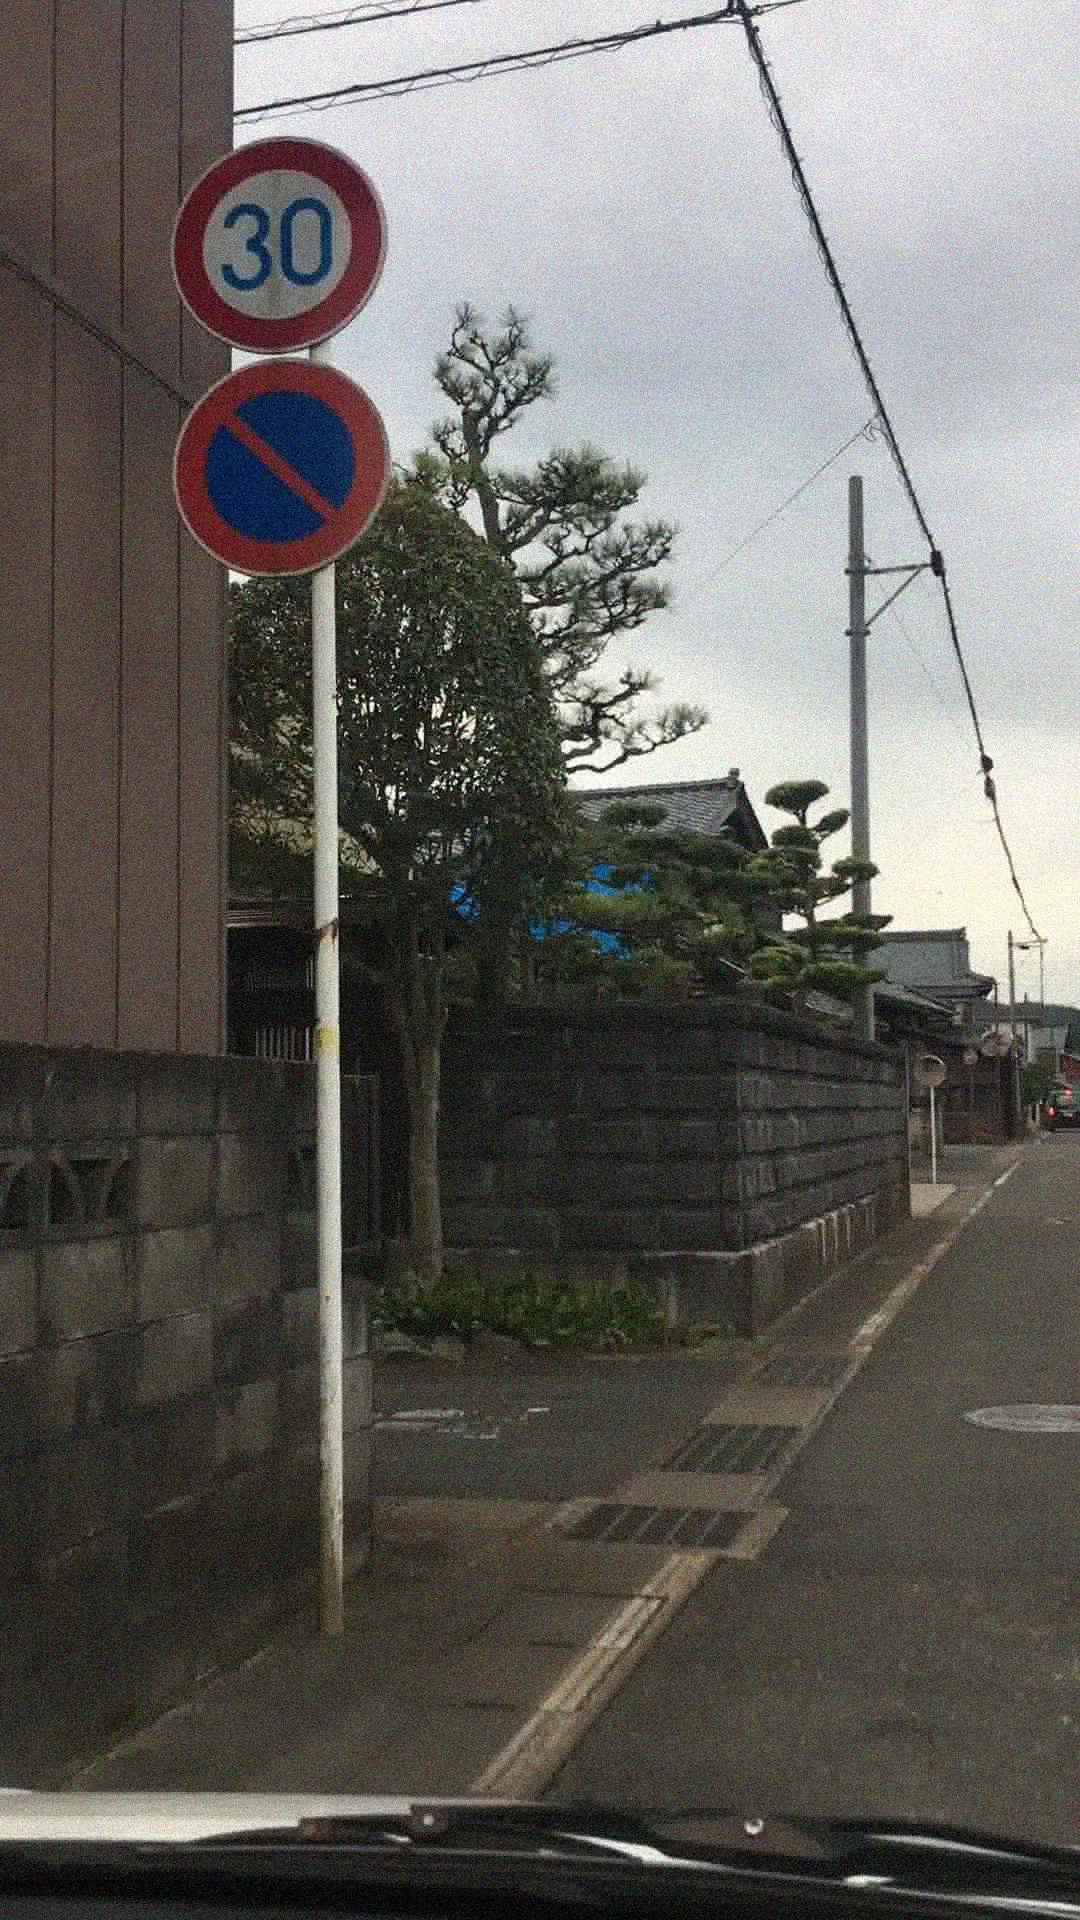Prohibition_sign: (179, 375, 433, 600)
Speed_sign: (170, 112, 394, 345)
